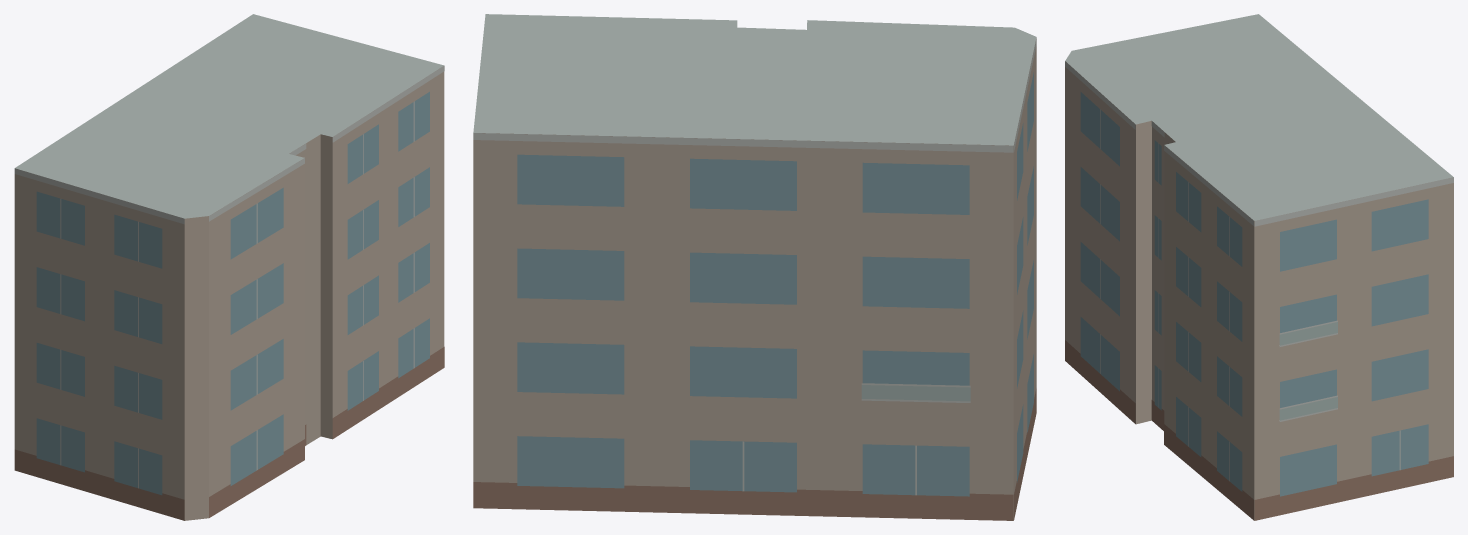
Rendered from survey-upis-33020897.glb.
The picture shows the model from 3 angles, left to right: view 1: azimuth 30°, elevation 25°; view 2: azimuth 150°, elevation 25°; view 3: azimuth 270°, elevation 25°; orthographic projection. The views are drawn at different scales.
Parts seen in each view (by area): view 1: survey-upis-33020897.tmp; view 2: survey-upis-33020897.tmp; view 3: survey-upis-33020897.tmp.
Part boxes in pixels (box(x1,y1,x2,y2)): survey-upis-33020897.tmp: box(14, 14, 444, 520); survey-upis-33020897.tmp: box(473, 14, 1036, 520); survey-upis-33020897.tmp: box(1065, 14, 1453, 520).
Size of the model in its own units: 18.96 by 12.8 by 15.05.
